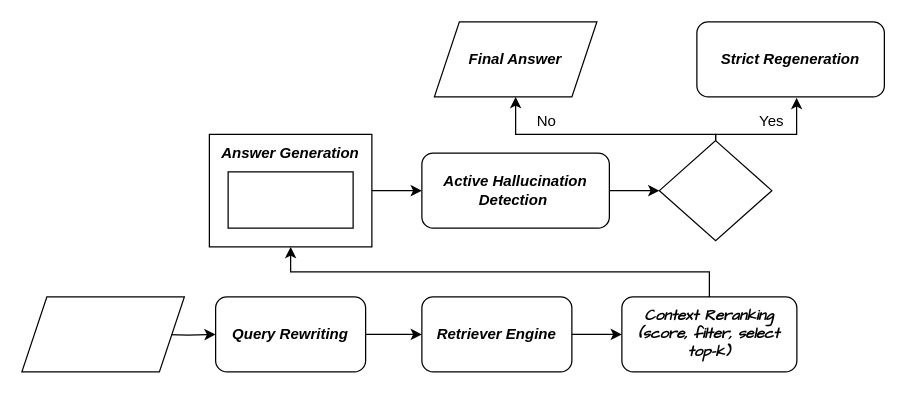
This 906x394 diagram has some shape labels left out. The centre of each missing label's shape, as x and y in pixels:
"Hallucinate?" belongs at [715,190].
"Large Language Model (LLM)" belongs at [290,199].
"User Input Query" belongs at [102,334].
